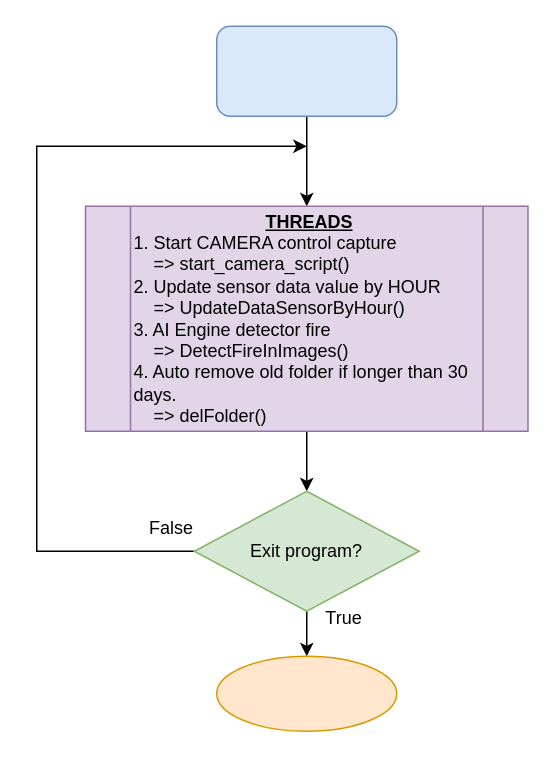
The diagram is 555 pixels wide and 758 high, and some of its shapes have lost their labels. Each missing label, with the box of its shape:
END: (215, 655, 397, 731)
Input Configuration input.json: (215, 25, 397, 116)
